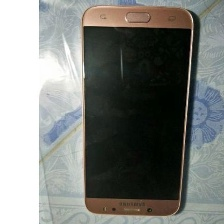phone: (76, 2, 197, 218)
